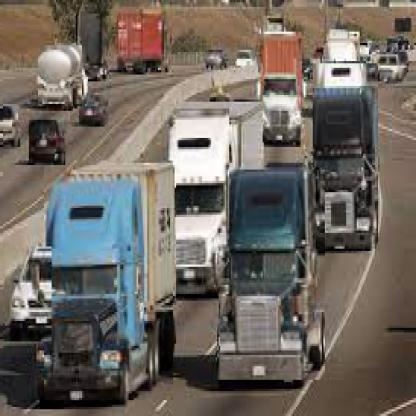car: (4, 248, 53, 345), (29, 121, 67, 168), (80, 94, 110, 128), (379, 53, 408, 85), (3, 105, 21, 150), (236, 51, 256, 69), (206, 51, 224, 69)
container: (44, 162, 174, 404), (220, 168, 326, 383), (312, 64, 379, 252), (176, 103, 230, 297), (262, 33, 305, 146), (118, 10, 172, 71), (82, 12, 111, 78)
truck: (38, 46, 88, 110)
